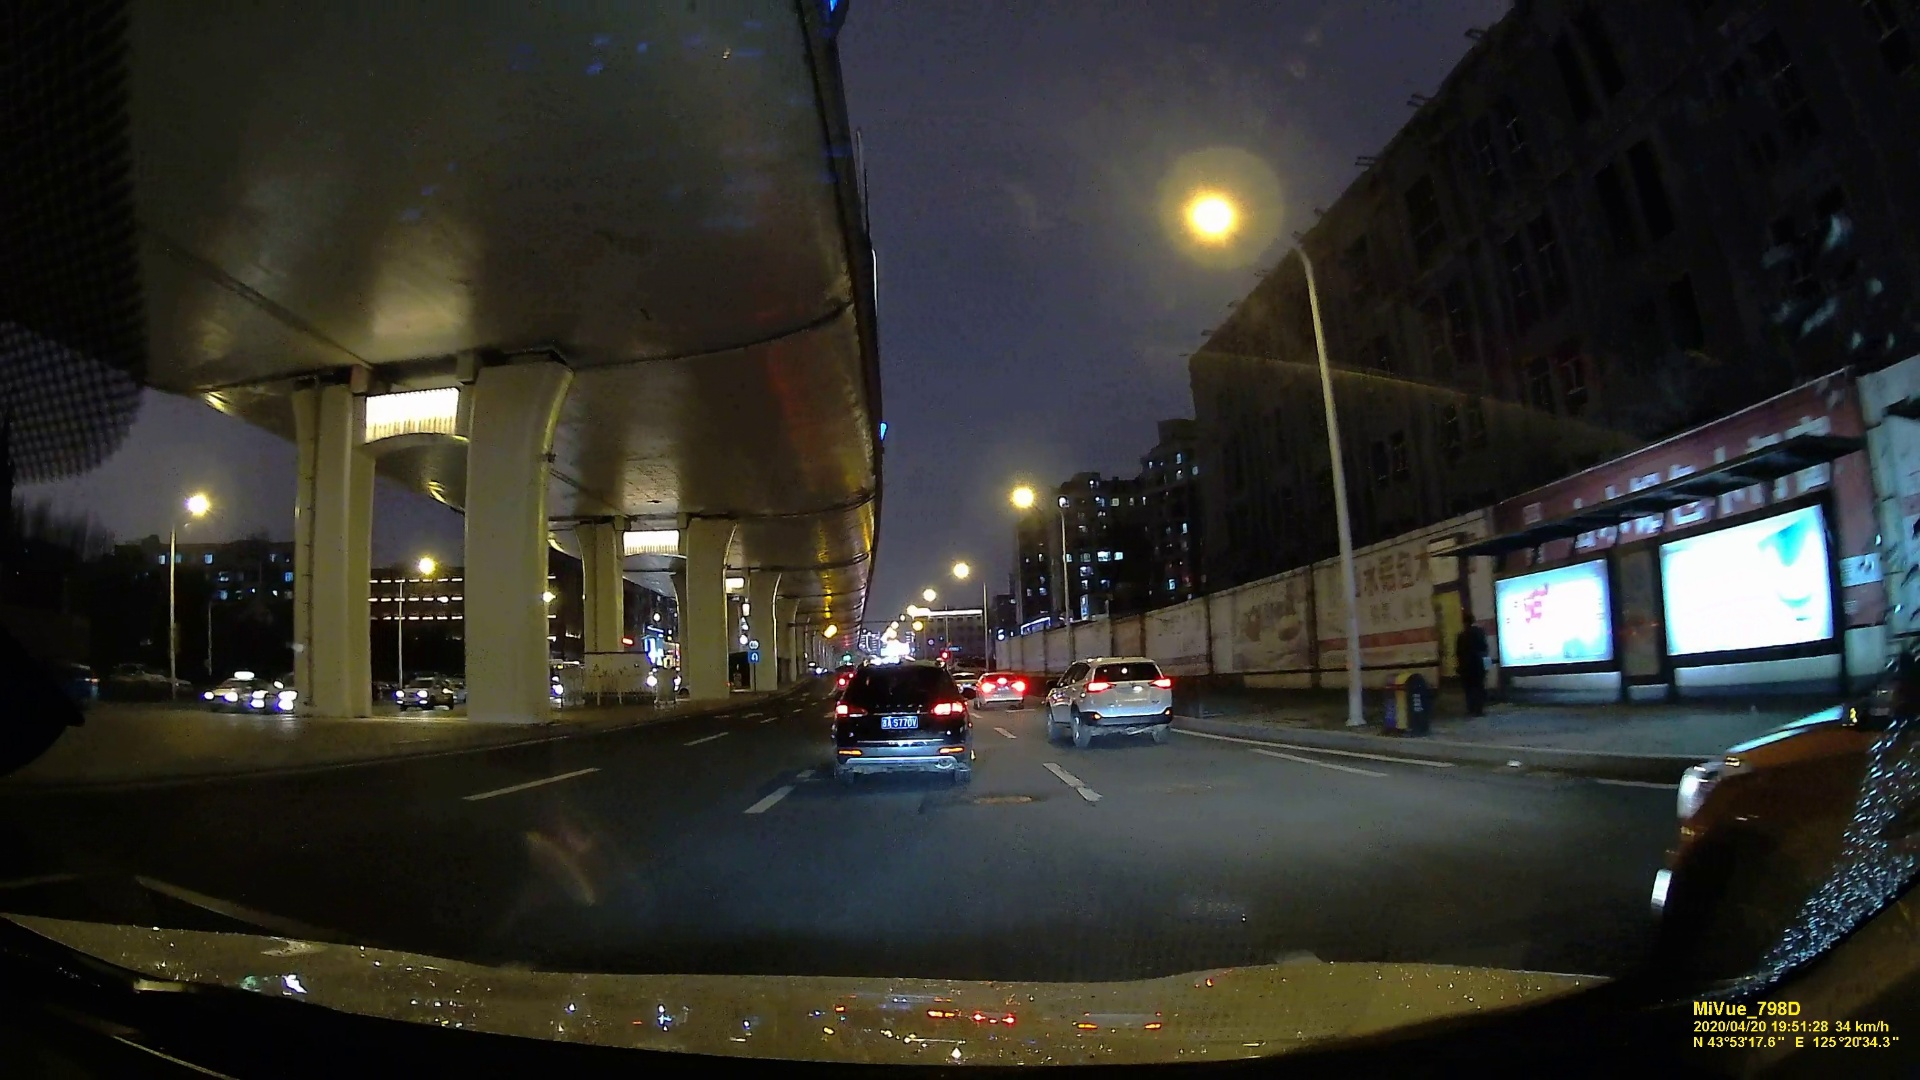person: (1450, 609, 1490, 716)
vehicle: (826, 666, 968, 786), (1042, 658, 1176, 746), (976, 670, 1028, 707), (201, 675, 263, 704), (390, 678, 452, 705)
